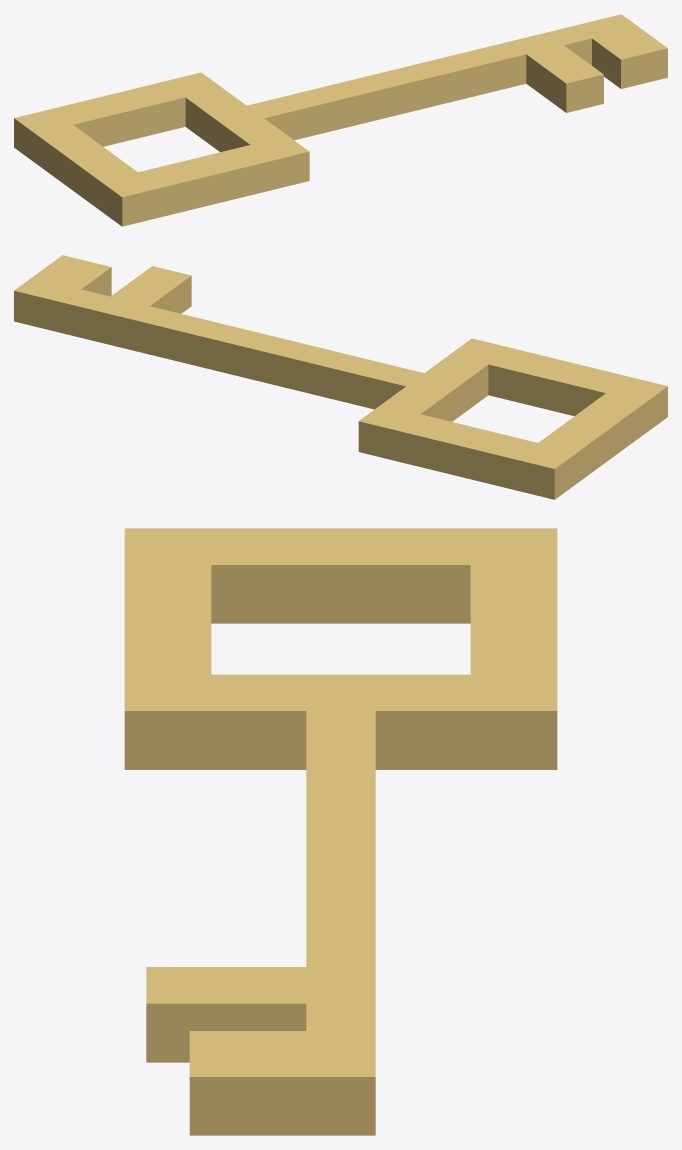
The model's file is key.glb.
3 renders of one model, top to bottom at view 1: azimuth 30°, elevation 25°; view 2: azimuth 150°, elevation 25°; view 3: azimuth 270°, elevation 25°, orthographic. The views are drawn at different scales.
Bounding box in the file's own units: 0.3 × 0.015 × 0.1.
